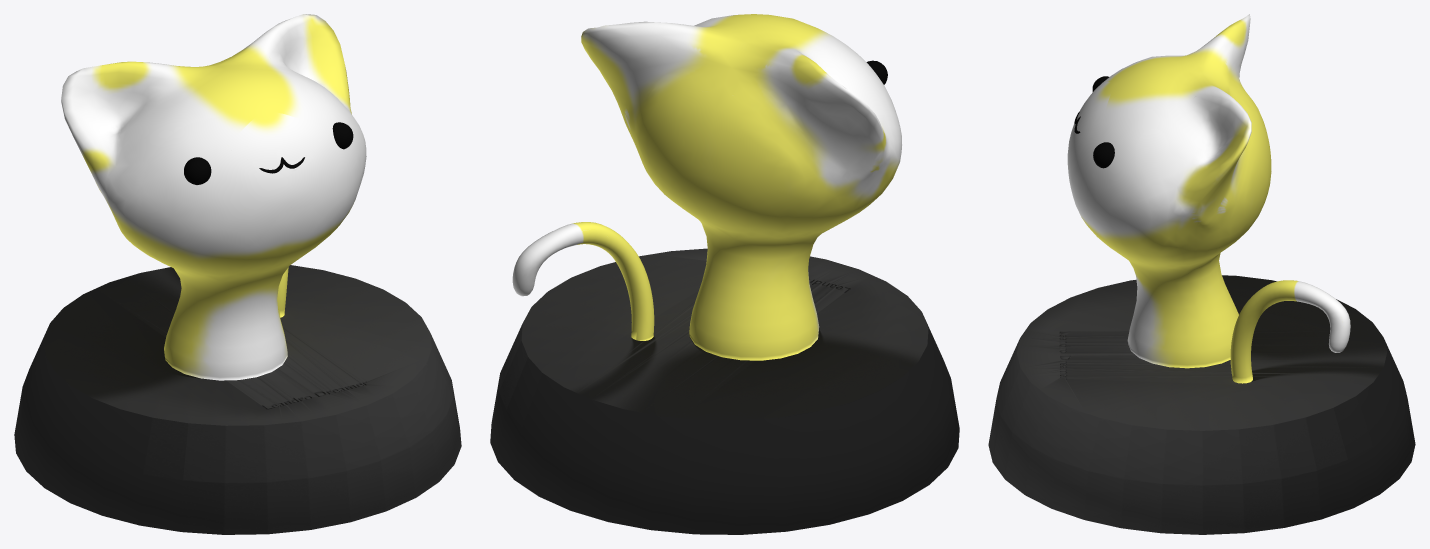
Rendered from cat_cute.glb.
3 renders of one model, left to right at view 1: azimuth 30°, elevation 25°; view 2: azimuth 150°, elevation 25°; view 3: azimuth 270°, elevation 25°, orthographic. The views are drawn at different scales.
Visible parts, largest first — view 1: Circle, Cube, Icosphere.001; view 2: Circle, Cube; view 3: Circle, Cube, Icosphere.001.
Boxes of the visible parts, x1,y1,x2,y2 form: Circle: [14, 265, 461, 534]; Cube: [61, 14, 366, 380]; Icosphere.001: [184, 122, 353, 184]; Circle: [490, 248, 959, 534]; Cube: [512, 14, 901, 360]; Circle: [988, 275, 1415, 534]; Cube: [1067, 14, 1350, 383]; Icosphere.001: [1092, 76, 1114, 168].
Bounding box in the file's own units: 0.8588 × 0.827 × 0.8588.
Materials: 4 (2 with a texture image).
